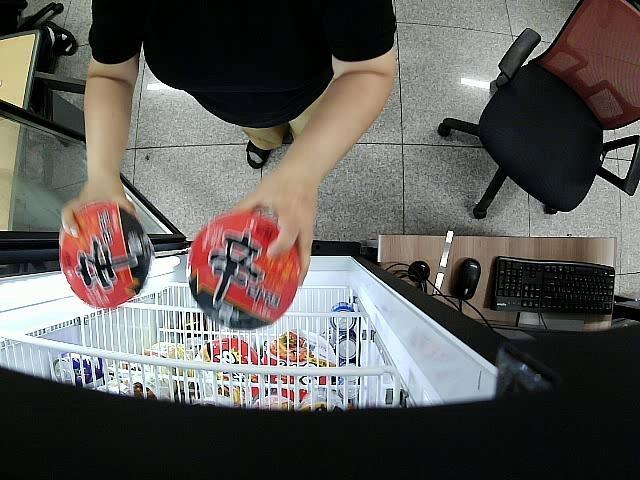01_ShinRamen_L: (190, 213, 300, 330), (58, 203, 152, 308)
